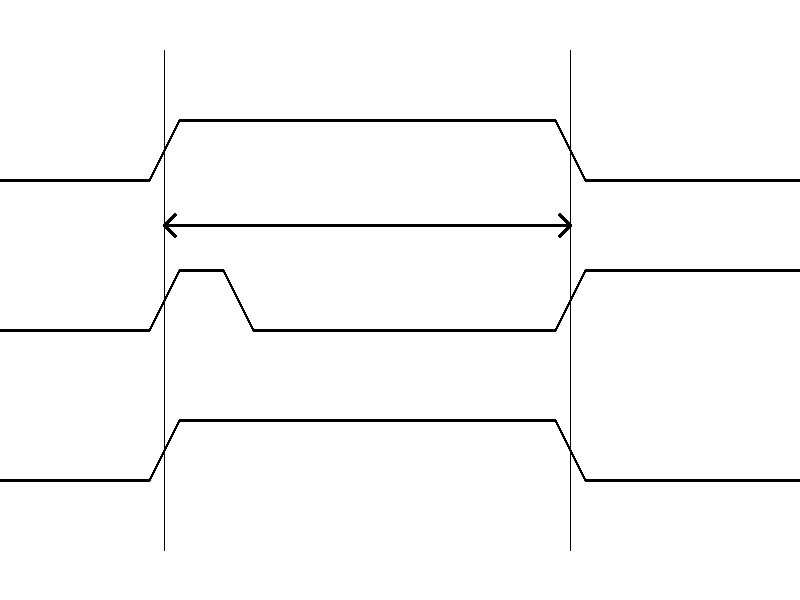double_arrow: (164, 210, 570, 240)
